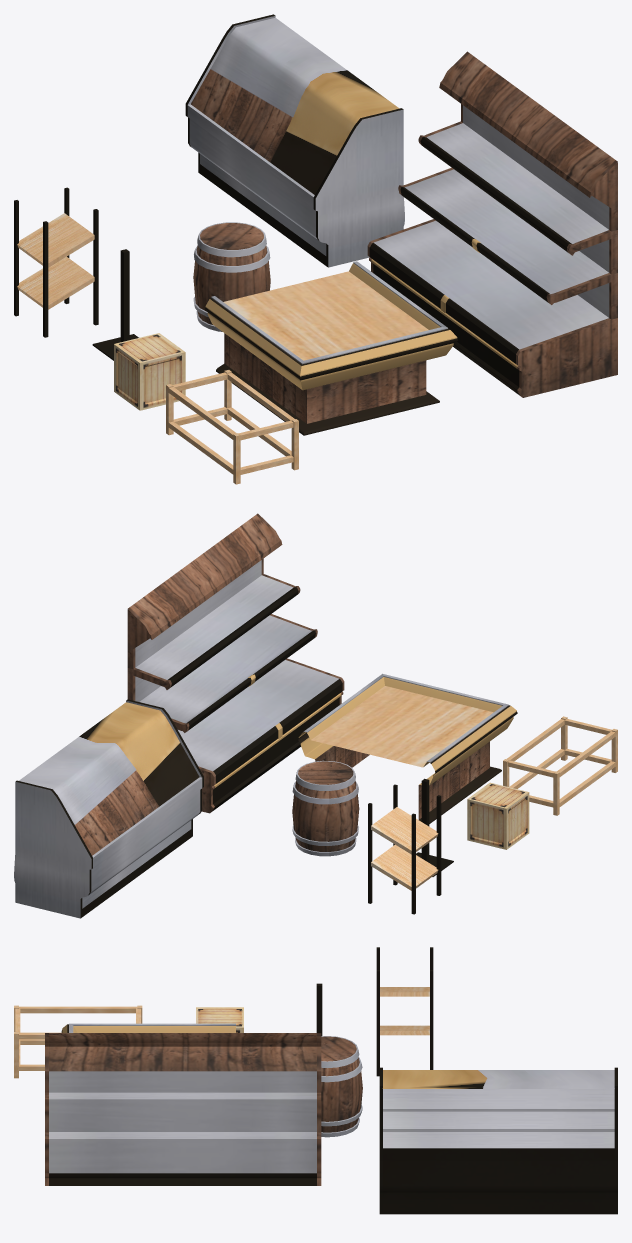
File: Detailsandstuff2.fbx
3 views of the same model, one above another, from view 1: azimuth 30°, elevation 25°; view 2: azimuth 150°, elevation 25°; view 3: azimuth 270°, elevation 25° (orthographic). The views are drawn at different scales.
Visible parts, largest first — view 1: showcase2, shelf_black, showcaseBig, glass, showcasething2, barrel, woodsupport13, woodbox3, metalObstacle; view 2: showcase2, shelf_black, showcaseBig, glass, barrel, showcasething2, woodsupport13, woodbox3, metalObstacle; view 3: showcase2, showcaseBig, glass, barrel, showcasething2, woodsupport13, shelf_black, woodbox3.
Part boxes in pixels (bbox=[...]): showcase2: bbox=[367, 51, 617, 397]; shelf_black: bbox=[205, 261, 458, 435]; showcaseBig: bbox=[185, 14, 404, 267]; glass: bbox=[191, 17, 399, 194]; showcasething2: bbox=[14, 187, 98, 337]; barrel: bbox=[193, 222, 270, 331]; woodsupport13: bbox=[166, 370, 298, 484]; woodbox3: bbox=[114, 333, 185, 410]; metalObstacle: bbox=[92, 249, 138, 360]; showcase2: bbox=[127, 513, 344, 813]; shelf_black: bbox=[298, 673, 517, 823]; showcaseBig: bbox=[14, 699, 203, 918]; glass: bbox=[19, 702, 199, 855]; barrel: bbox=[292, 760, 359, 856]; showcasething2: bbox=[368, 784, 441, 914]; woodsupport13: bbox=[503, 716, 617, 815]; woodbox3: bbox=[467, 782, 529, 849]; metalObstacle: bbox=[416, 778, 453, 876]; showcase2: bbox=[45, 1033, 321, 1185]; showcaseBig: bbox=[379, 1067, 617, 1214]; glass: bbox=[382, 1070, 614, 1088]; barrel: bbox=[321, 1036, 362, 1137]; showcasething2: bbox=[376, 947, 433, 1076]; woodsupport13: bbox=[14, 1005, 142, 1078]; shelf_black: bbox=[61, 1023, 235, 1032]; woodbox3: bbox=[196, 1007, 243, 1032].
Size of the model in its own units: 205 by 105 by 294.
